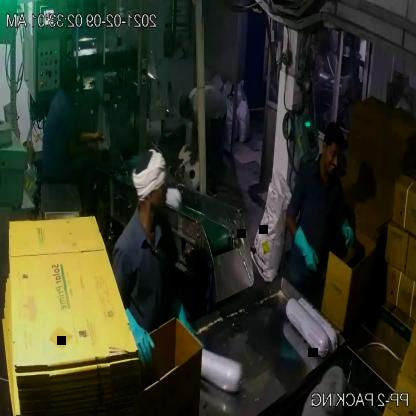glove: (118, 308, 157, 370), (282, 224, 324, 276), (336, 206, 363, 253)
no_glove: (63, 134, 103, 161), (74, 121, 110, 144)
